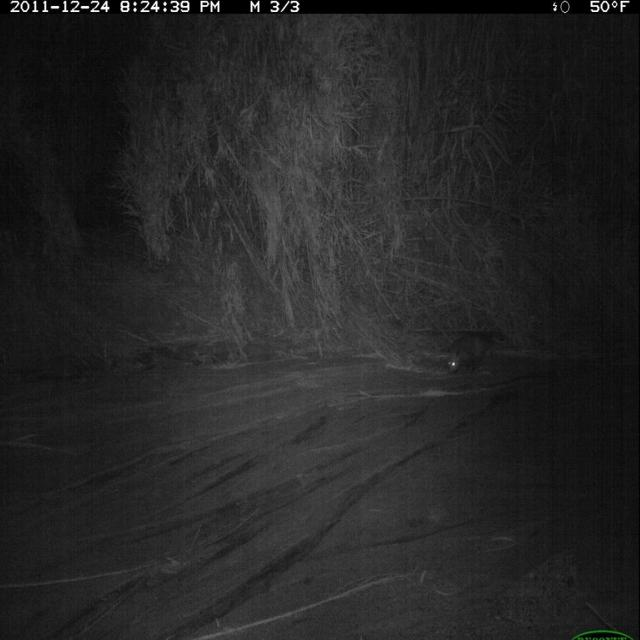opossum: (446, 327, 510, 380)
